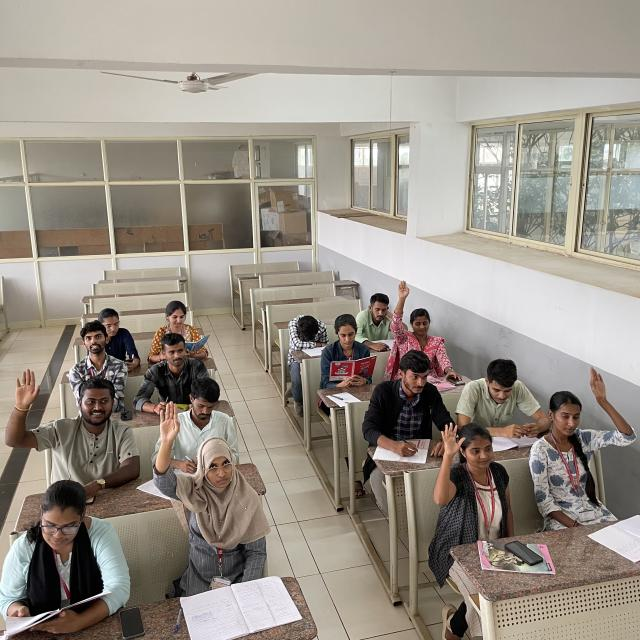Hand Rising: (137, 422, 269, 588), (5, 362, 134, 506), (533, 364, 631, 491), (428, 421, 515, 544), (390, 279, 454, 367)
Reading: (5, 480, 129, 631), (452, 355, 557, 445), (144, 297, 212, 359), (323, 312, 377, 388), (358, 293, 399, 352)
Sleeping: (285, 306, 332, 366)
Writing: (361, 349, 445, 462)
